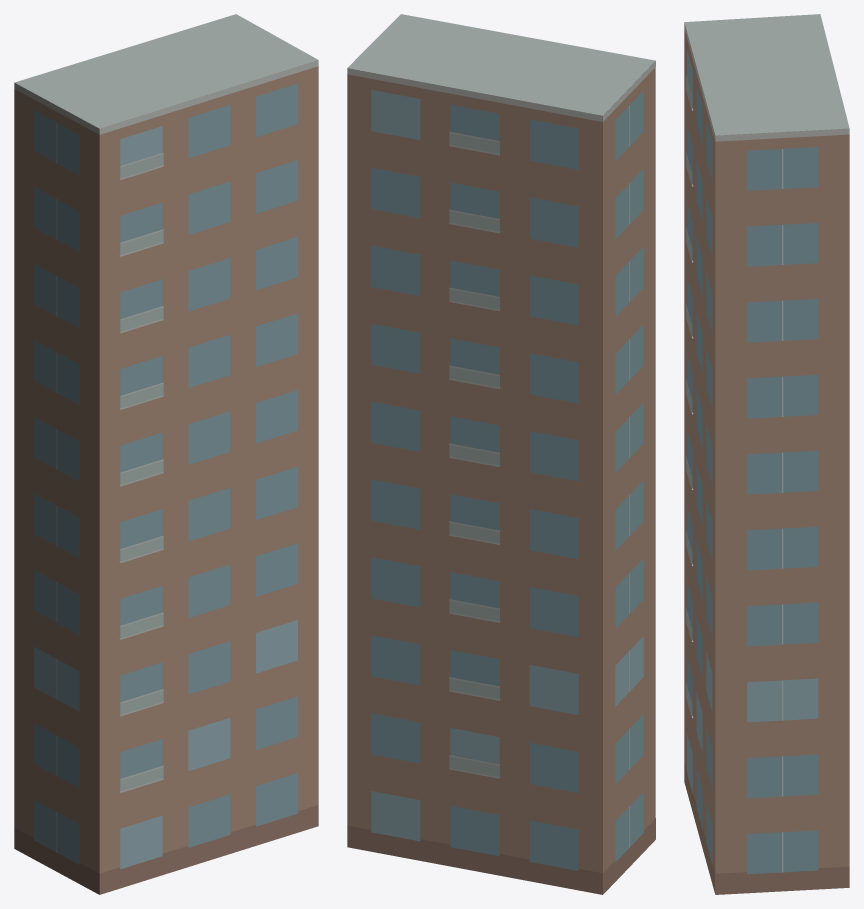
The model's file is survey-upis-32528627.glb.
3 renders of one model, left to right at view 1: azimuth 30°, elevation 25°; view 2: azimuth 150°, elevation 25°; view 3: azimuth 270°, elevation 25°, orthographic. The views are drawn at different scales.
Parts seen in each view (by area): view 1: survey-upis-32528627.tmp; view 2: survey-upis-32528627.tmp; view 3: survey-upis-32528627.tmp.
Boxes of the visible parts, x1,y1,x2,y2 form: survey-upis-32528627.tmp: (14, 14, 318, 894); survey-upis-32528627.tmp: (347, 14, 655, 894); survey-upis-32528627.tmp: (684, 14, 849, 894).
Size of the model in its own units: 10.49 by 30.5 by 6.03.
